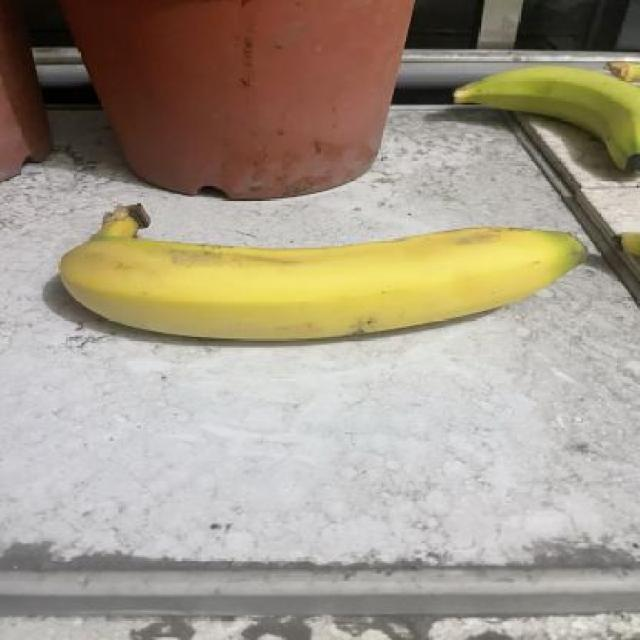banana: (41, 198, 588, 348), (434, 50, 638, 176)
